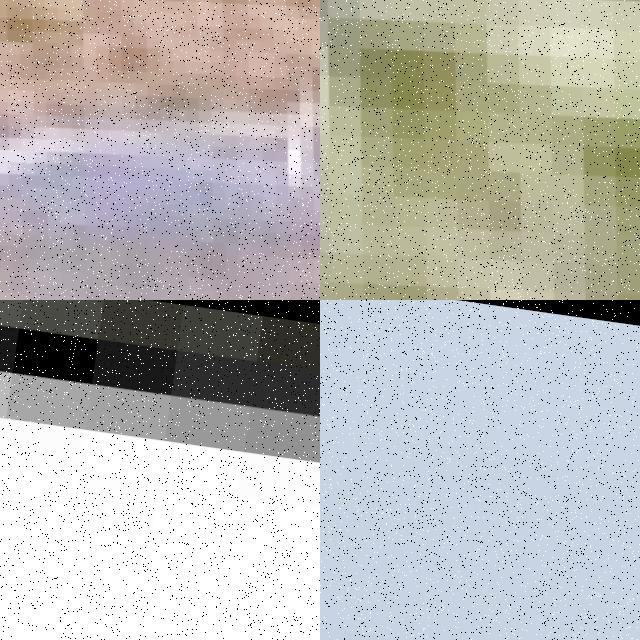0: (320, 0, 640, 300)
drone: (0, 0, 320, 300)
